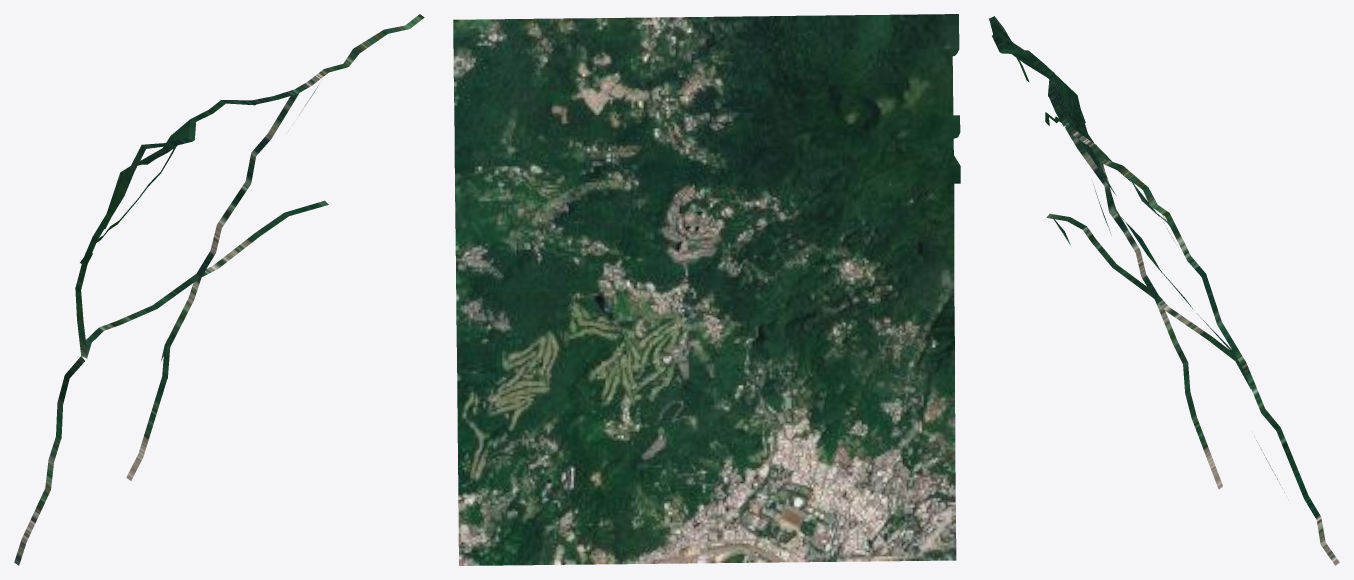
The picture shows the model from 3 angles, left to right: view 1: azimuth 30°, elevation 25°; view 2: azimuth 150°, elevation 25°; view 3: azimuth 270°, elevation 25°; orthographic projection. The views are drawn at different scales.
Size of the model in its own units: 4869 by 4767 by 3577.
1 material, 1 textured.
